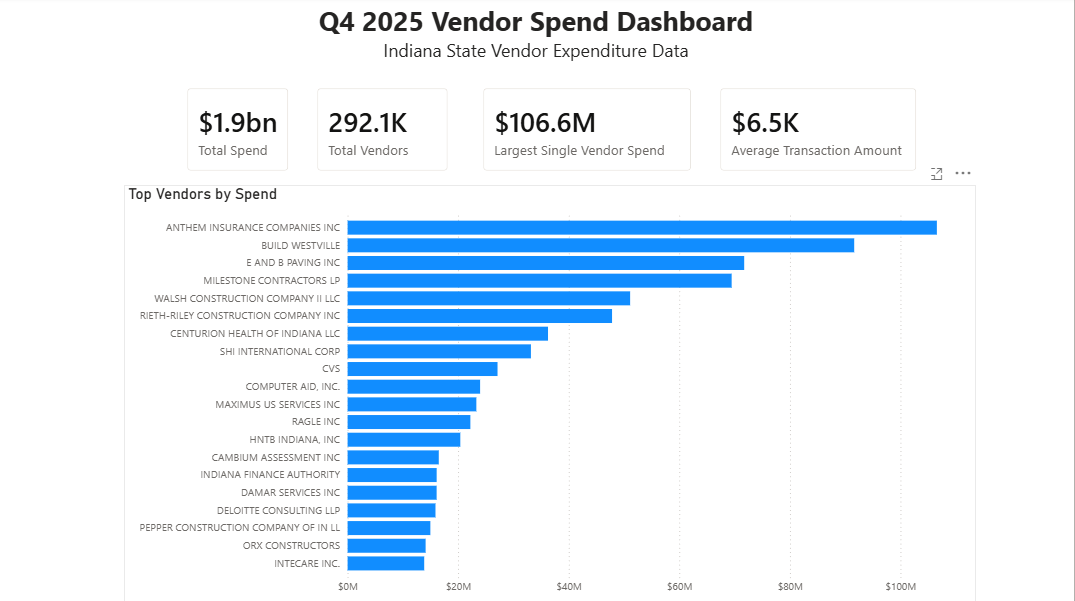

This screenshot's page, from the dashboard's own definition file:
{"tool":"powerbi","page":{"name":"Page 1","canvas":[1280,720],"ordinal":0},"visuals":[{"type":"clusteredBarChart","title":"Top Vendors by Spend","fields":{"Category":["vendor_2025q4.Vendor Name"],"Y":["vendor_2025q4.Total Spend"]},"box":[149.9,223.6,1013.5,496.1],"z":0},{"type":"cardVisual","fields":{"Data":["vendor_2025q4.Total Spend"]},"box":[208.2,91.6,154.6,132],"z":1},{"type":"cardVisual","fields":{"Data":["CountNonNull(vendor_2025q4.Vendor ID)"]},"box":[362.8,91.6,189.1,132],"z":2},{"type":"cardVisual","fields":{"Data":["vendor_2025q4.Largest Single Vendor Spend"]},"box":[560.3,91.6,281.9,132],"z":3},{"type":"cardVisual","fields":{"Data":["vendor_2025q4.Average Transaction Amount"]},"box":[842.2,91.6,267.7,132],"z":4},{"type":"textbox","box":[0,0,1280,91.6],"z":5}]}

Visuals, with their boxes in screenshot pixels (x1, y1, x2, y2), scaled from the page's 1280x720 canvas onto the 1075x601 screenshot:
"Top Vendors by Spend" clusteredBarChart: 126/187/977/600
cardVisual - vendor_2025q4.Total Spend: 175/76/305/187
cardVisual - CountNonNull(vendor_2025q4.Vendor ID): 305/76/464/187
cardVisual - vendor_2025q4.Largest Single Vendor Spend: 471/76/707/187
cardVisual - vendor_2025q4.Average Transaction Amount: 707/76/932/187
textbox: 0/0/1074/76
